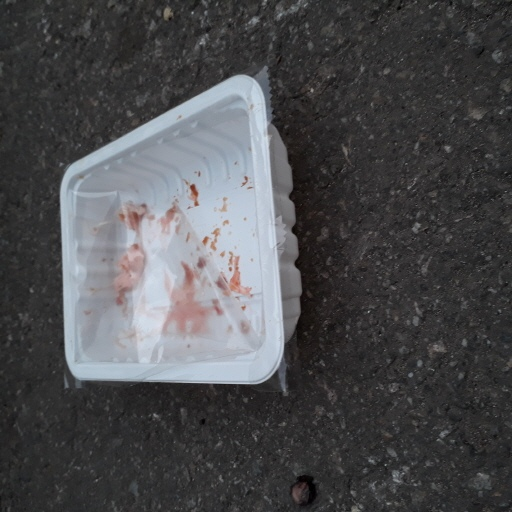Plastic_4: (57, 79, 304, 397)
